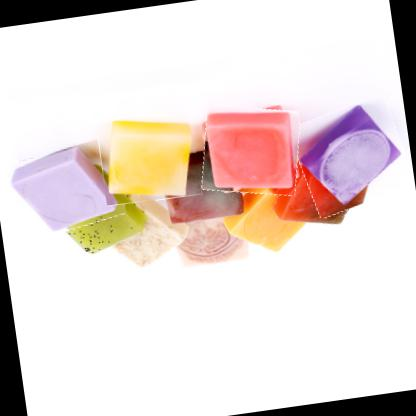soap: (289, 96, 413, 216), (5, 138, 126, 240), (194, 97, 308, 202), (96, 108, 202, 206)
